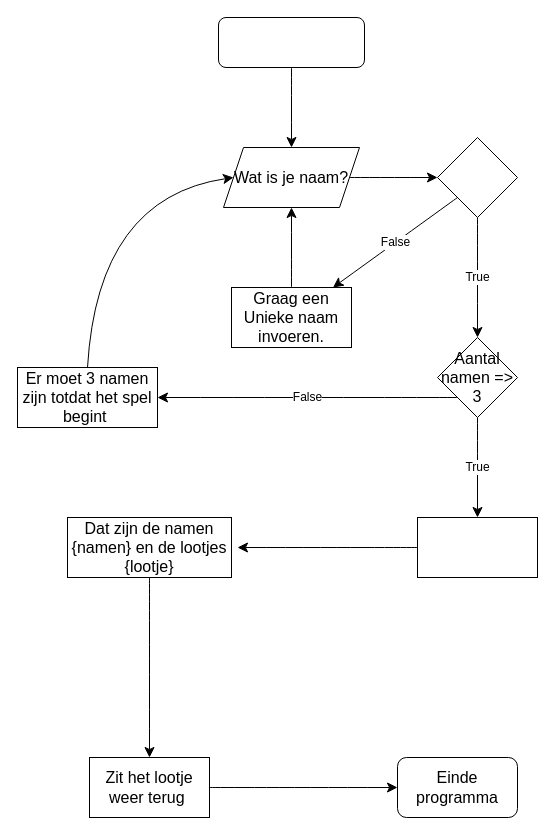
This 555x835 diagram has some shape labels left out. The centre of each missing label's shape, as x and y in pixels:
"Start Programma" belongs at point (291, 42).
"Trek een random lootje" belongs at point (477, 547).
"Unieke namen?" belongs at point (477, 177).
